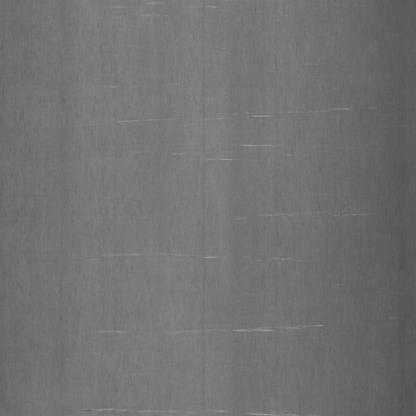waist_folding: (64, 35, 354, 374)
